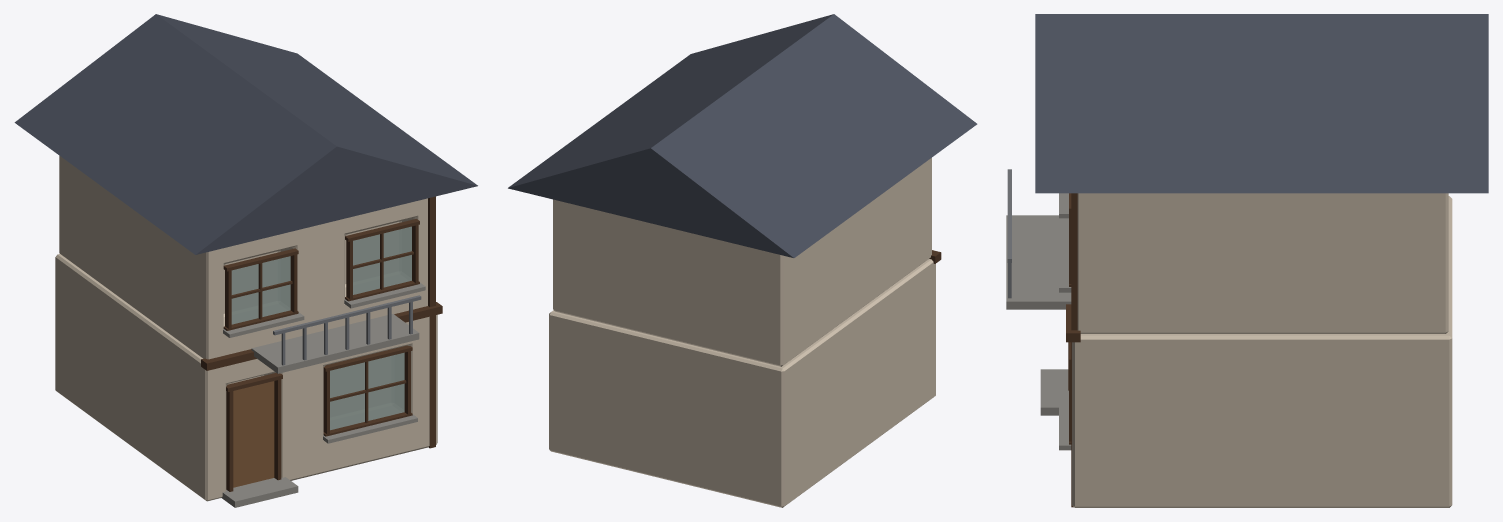
The model's file is SM_P1_HouseA.obj.
3 renders of one model, left to right at view 1: azimuth 30°, elevation 25°; view 2: azimuth 150°, elevation 25°; view 3: azimuth 270°, elevation 25°, orthographic. The views are drawn at different scales.
Parts seen in each view (by area): view 1: SM_P1_HouseA; view 2: SM_P1_HouseA; view 3: SM_P1_HouseA.
Boxes of the visible parts, x1=… form: SM_P1_HouseA: x1=14, y1=14, x2=477, y2=507; SM_P1_HouseA: x1=508, y1=14, x2=977, y2=507; SM_P1_HouseA: x1=1006, y1=14, x2=1488, y2=507.
Bounding box in the file's own units: 5.6 × 6.4 × 6.6.
